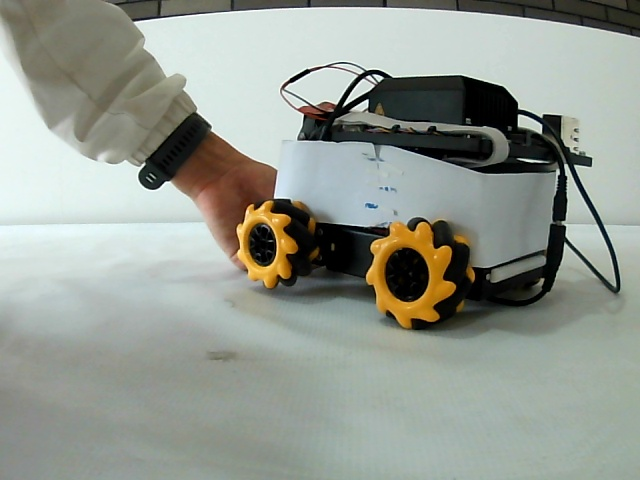car: (236, 66, 580, 332)
paper: (279, 145, 556, 237)
